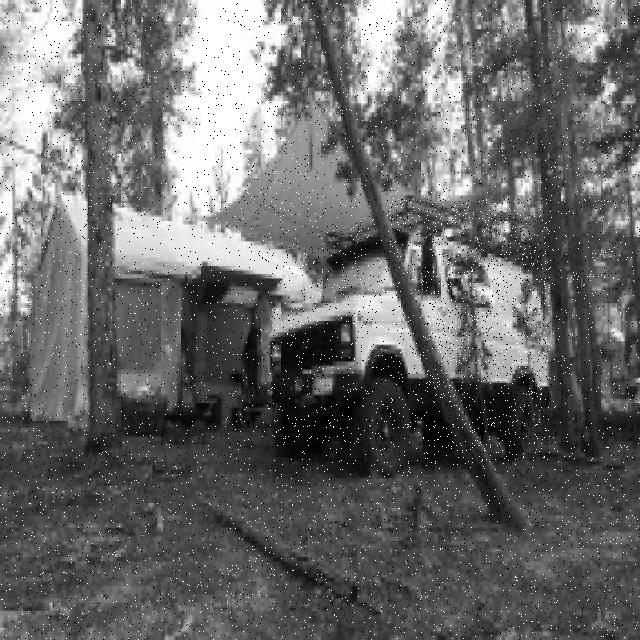Van: (389, 199, 551, 462), (271, 226, 426, 477)
